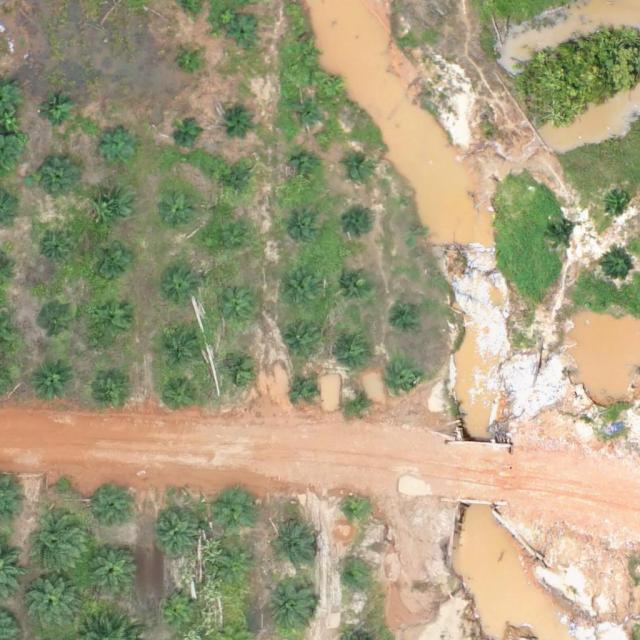Grass: (96, 190, 135, 230)
Healthy: (29, 514, 91, 576), (27, 576, 82, 632), (152, 507, 206, 562), (86, 543, 140, 598), (271, 581, 318, 629)
Small: (271, 520, 318, 568), (89, 486, 136, 534), (37, 95, 77, 135), (90, 365, 130, 405), (335, 330, 375, 370), (210, 225, 250, 264), (282, 210, 322, 249), (32, 362, 71, 402), (281, 270, 320, 310), (163, 327, 202, 367), (92, 298, 131, 338), (161, 267, 200, 307), (160, 376, 200, 415), (216, 489, 255, 529), (220, 549, 259, 589), (220, 352, 259, 392), (92, 245, 131, 284), (162, 192, 201, 231), (99, 128, 138, 167), (40, 158, 79, 197), (157, 591, 196, 630), (38, 303, 77, 342), (217, 291, 256, 330), (336, 265, 375, 304), (282, 321, 321, 360), (290, 374, 321, 406), (344, 387, 375, 419), (40, 234, 71, 265), (346, 210, 377, 241), (225, 104, 256, 135), (174, 120, 205, 151), (292, 101, 323, 132), (229, 19, 260, 50), (290, 154, 321, 185), (343, 153, 374, 184), (601, 252, 632, 283), (388, 366, 419, 397), (395, 301, 426, 332), (340, 496, 371, 527), (337, 563, 368, 594), (603, 187, 634, 218), (546, 222, 577, 253), (223, 169, 254, 200), (297, 42, 321, 66), (179, 49, 203, 73)
